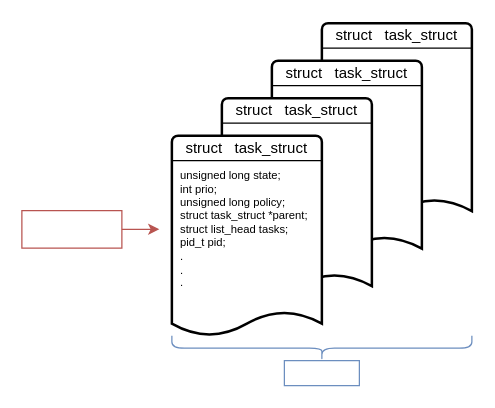
Some shapes in this 495 by 408 pixel diagram are drawn without their labels. The shapes that lost their labels are listed below. From the top down, each one's centre as x and y in pixels, then its label:
At point (71, 228): "process descriptor".
At point (321, 372): "task list".
